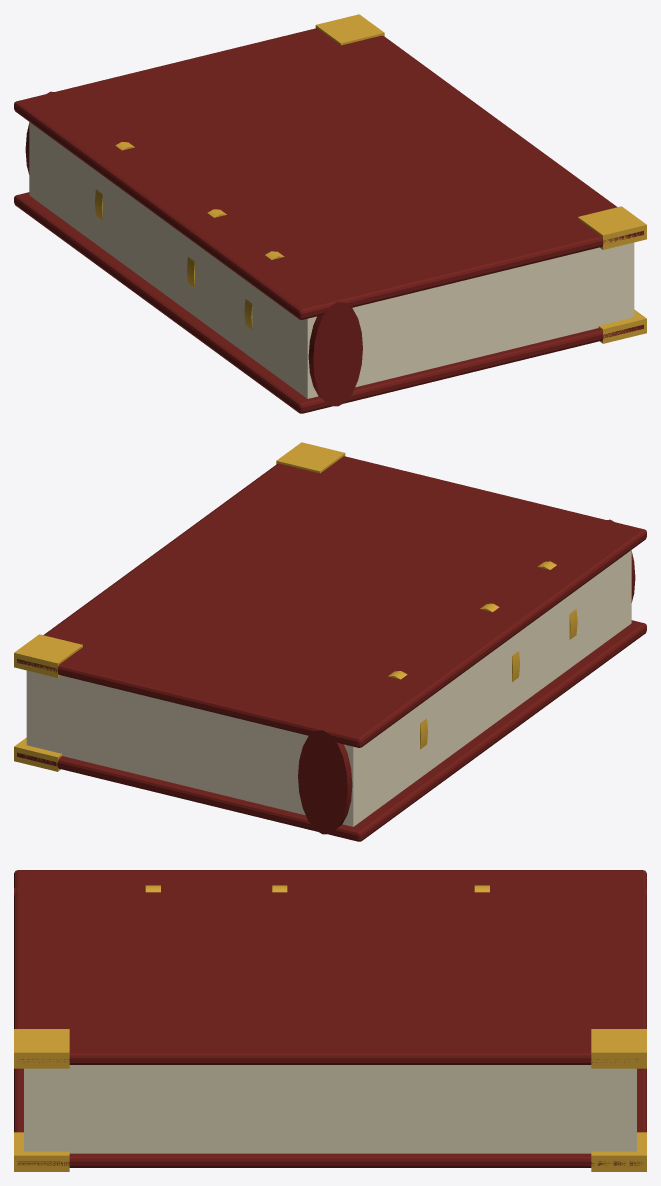
Rendered from book.glb.
The picture shows the model from 3 angles, top to bottom: view 1: azimuth 30°, elevation 25°; view 2: azimuth 150°, elevation 25°; view 3: azimuth 270°, elevation 25°; orthographic projection. The views are drawn at different scales.
Parts seen in each view (by area): view 1: book; view 2: book; view 3: book.
Boxes of the visible parts, box(x1,y1,x2,y2) form: book: box(14, 14, 646, 413); book: box(14, 442, 646, 841); book: box(14, 870, 646, 1171).
Bounding box in the file's own units: 0.174 × 0.052 × 0.25.
